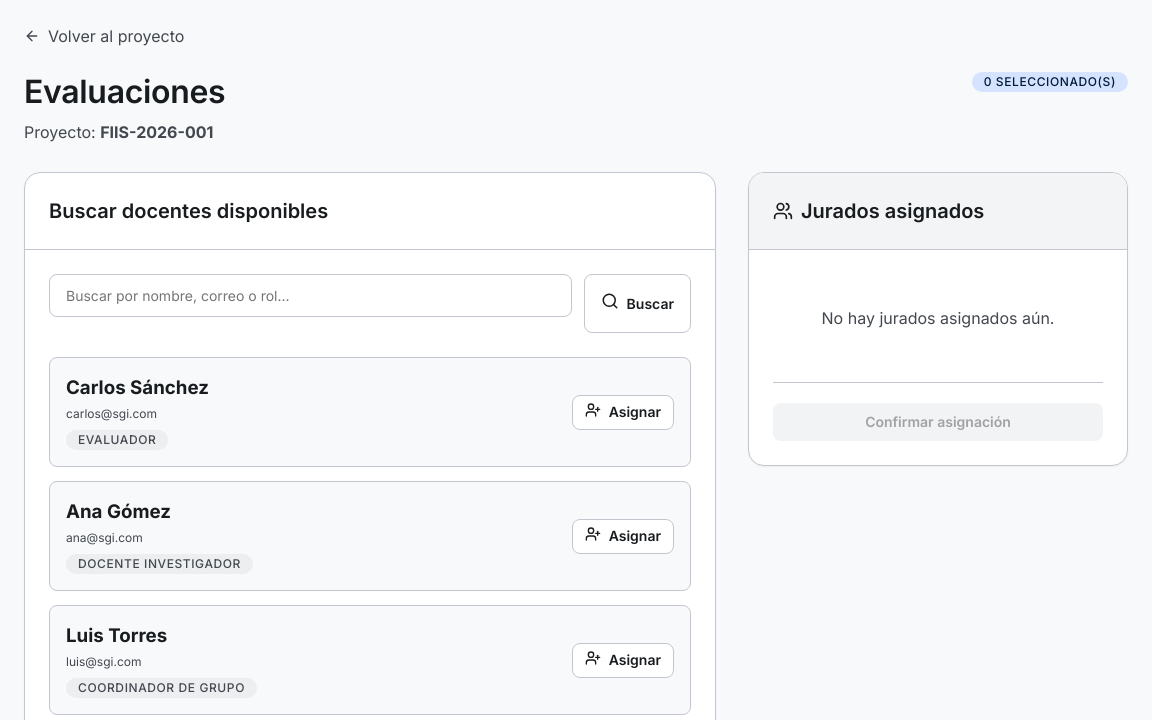
Test: AssignReviewers › shows already assigned badge after assigning
The width and height of the screenshot is (1152, 720).
expect the heading "Carlos Sánchez" is shown: met, box [66,374,209,402]
Click the button "Asignar" in the row of "Carlos Sánchez": (623, 412) [572,394,674,430]
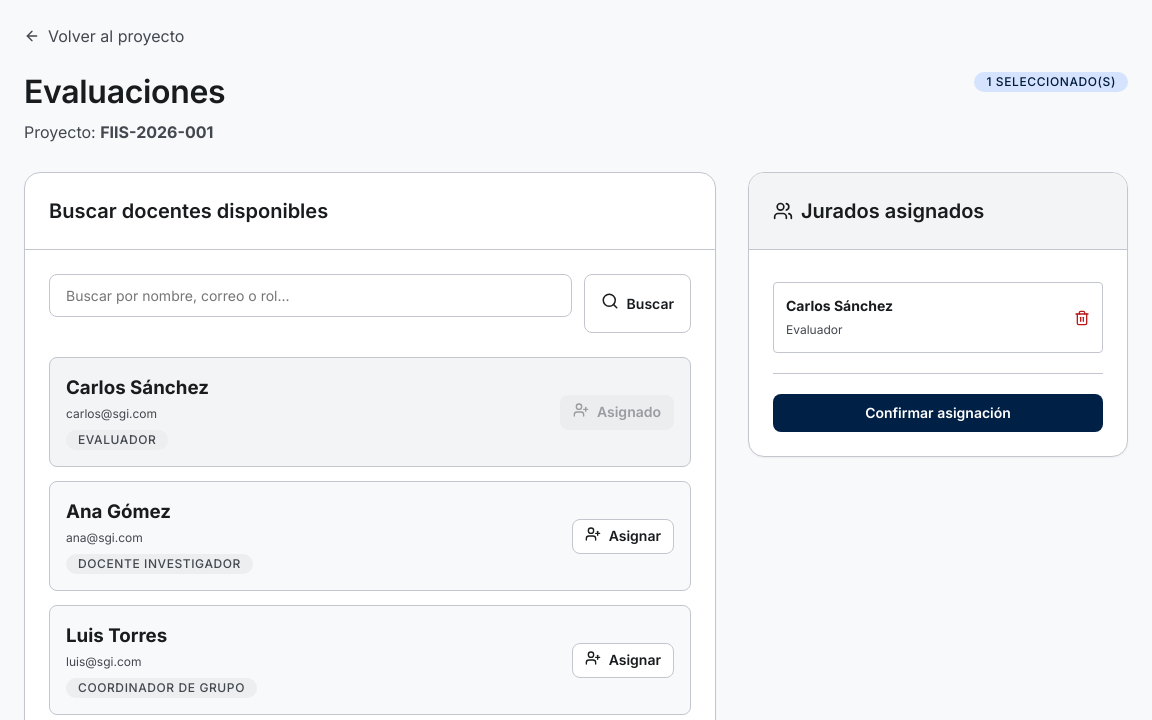
expect the button "Asignado" is shown: met, box [560,394,674,430]
